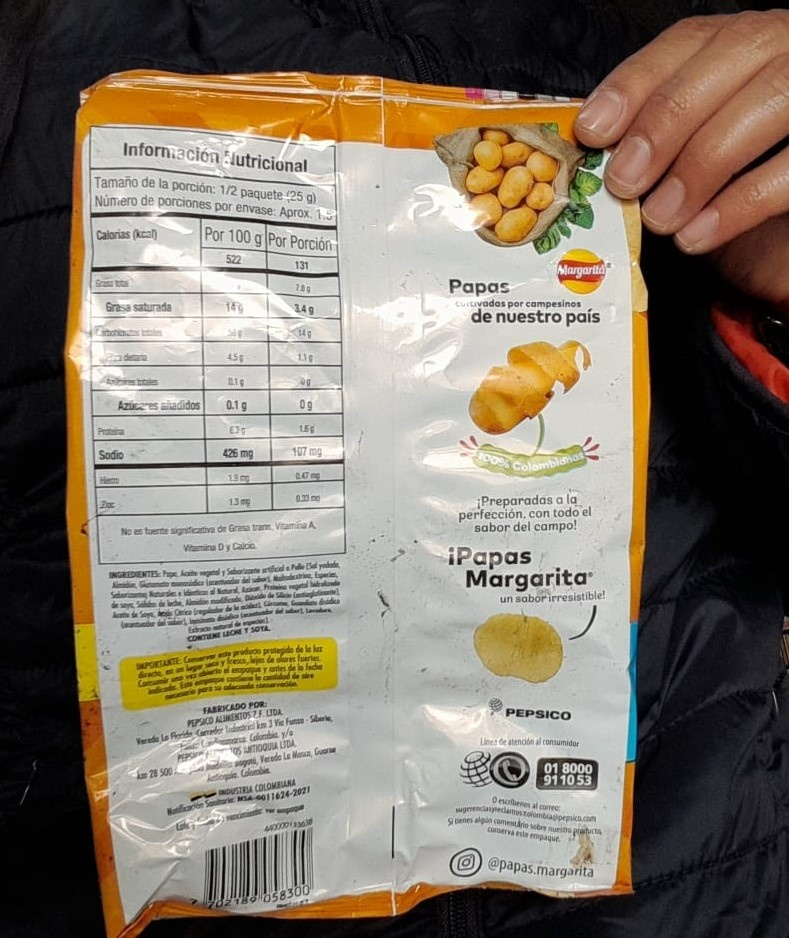Ordinario: (64, 71, 651, 938)
